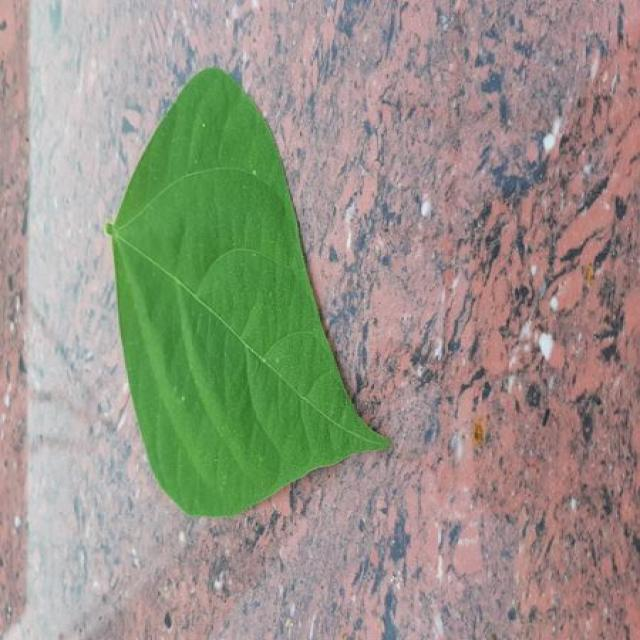beans: (107, 69, 390, 516)
